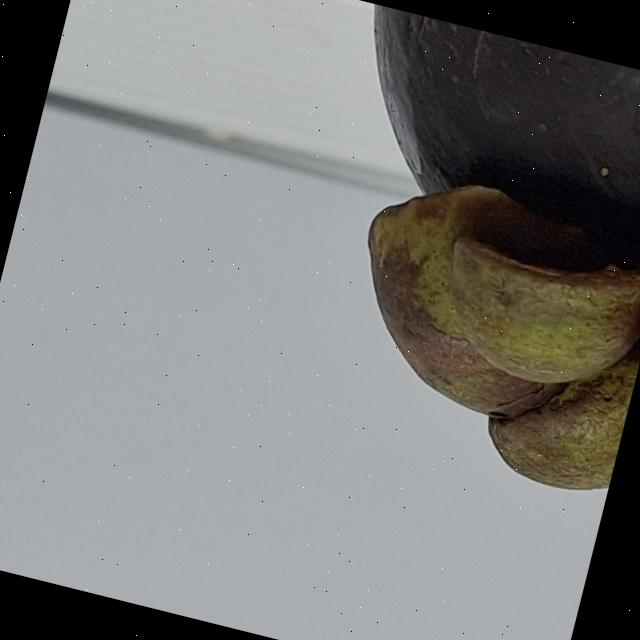mangosteen: (164, 0, 640, 577)
